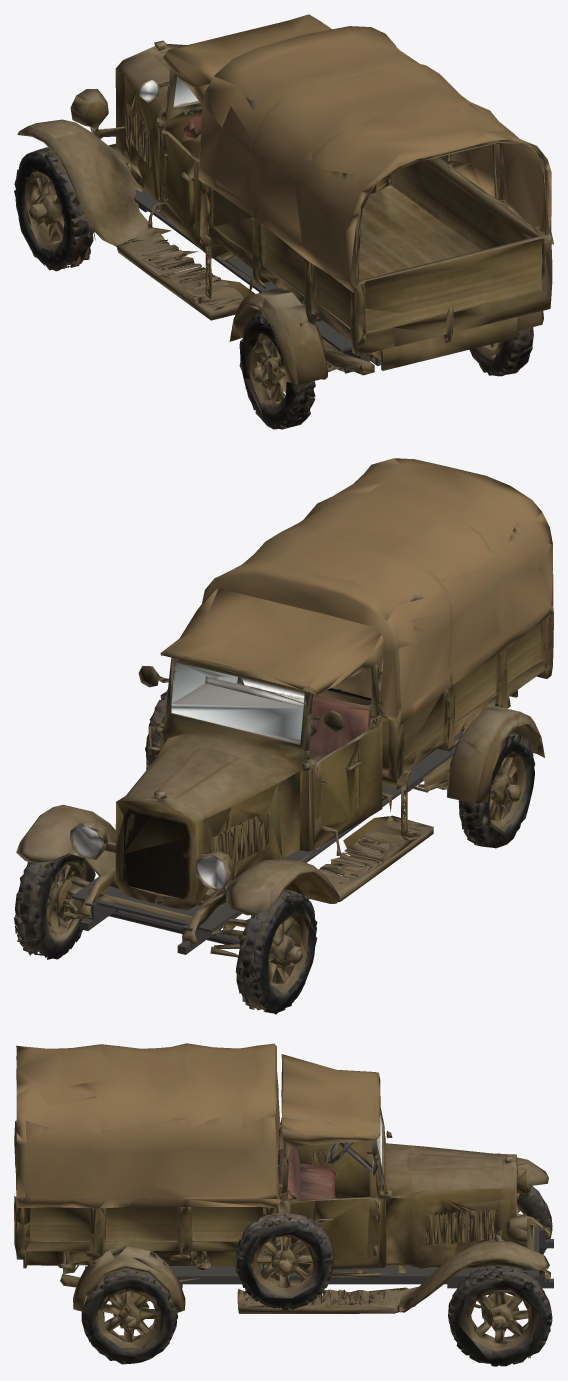
The model's file is vehicle_truck.glb.
3 renders of one model, top to bottom at view 1: azimuth 30°, elevation 25°; view 2: azimuth 150°, elevation 25°; view 3: azimuth 270°, elevation 25°, orthographic. The views are drawn at different scales.
Visible parts, largest first — view 1: truck, wheel_fl, wheel_rl, door_l, wheel_rr; view 2: truck, wheel_fl, door_l, wheel_fr, wheel_rl; view 3: truck, wheel_fr, wheel_rr, door_l, wheel_fl.
Part boxes in pixels (left/top/right/bottom): truck: left=17, top=14, right=553, bottom=384; wheel_fl: left=14, top=144, right=123, bottom=271; wheel_rl: left=229, top=313, right=370, bottom=429; door_l: left=148, top=129, right=211, bottom=255; wheel_rr: left=469, top=327, right=533, bottom=376; truck: left=14, top=458, right=553, bottom=981; wheel_fl: left=194, top=890, right=317, bottom=1014; door_l: left=309, top=710, right=382, bottom=854; wheel_fr: left=14, top=850, right=115, bottom=959; wheel_rl: left=412, top=728, right=544, bottom=848; truck: left=14, top=1043, right=553, bottom=1324; wheel_fr: left=449, top=1265, right=551, bottom=1366; wheel_rr: left=65, top=1268, right=200, bottom=1364; door_l: left=297, top=1140, right=377, bottom=1198; wheel_fl: left=516, top=1186, right=552, bottom=1254.
Bounding box in the file's own units: 2.35 × 2.48 × 4.81.
2 materials, 1 textured.
